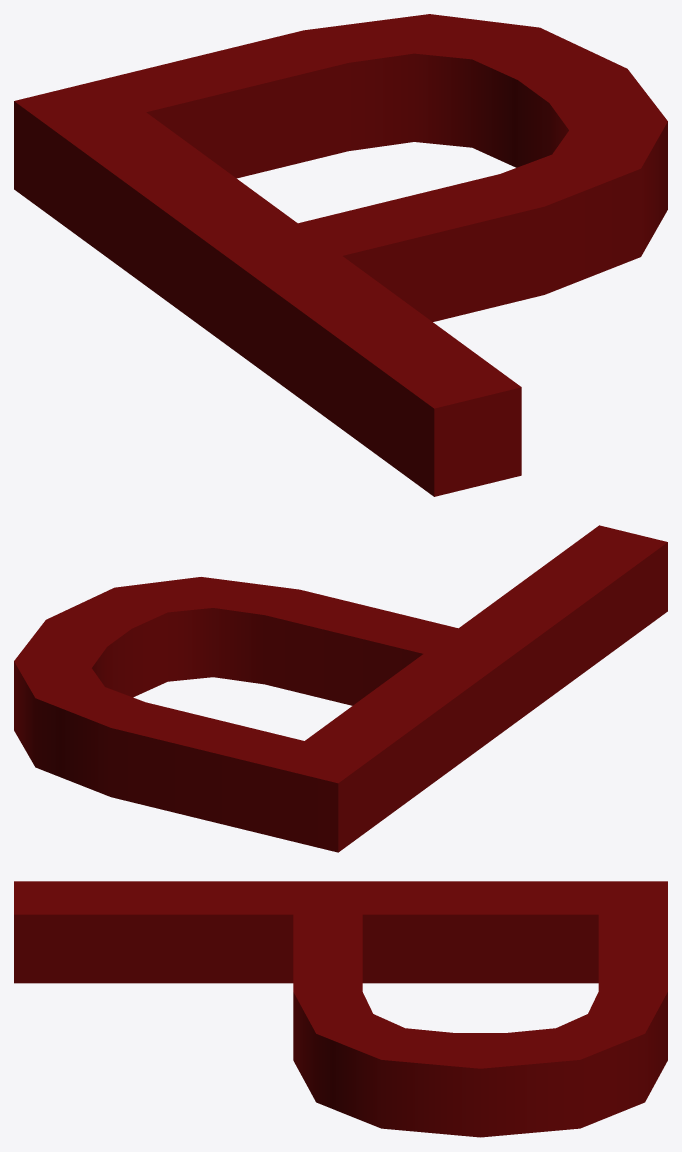
The picture shows the model from 3 angles, top to bottom: view 1: azimuth 30°, elevation 25°; view 2: azimuth 150°, elevation 25°; view 3: azimuth 270°, elevation 25°; orthographic projection. The views are drawn at different scales.
Parts seen in each view (by area): view 1: P; view 2: P; view 3: P.
Boxes of the visible parts, x1=… form: P: x1=14, y1=14, x2=667, y2=496; P: x1=14, y1=525, x2=667, y2=852; P: x1=14, y1=881, x2=667, y2=1137.
Bounding box in the file's own units: 0.1467 × 0.0251 × 0.2165.
